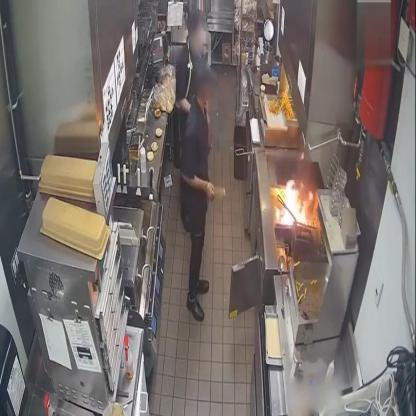fire: (274, 174, 314, 232)
